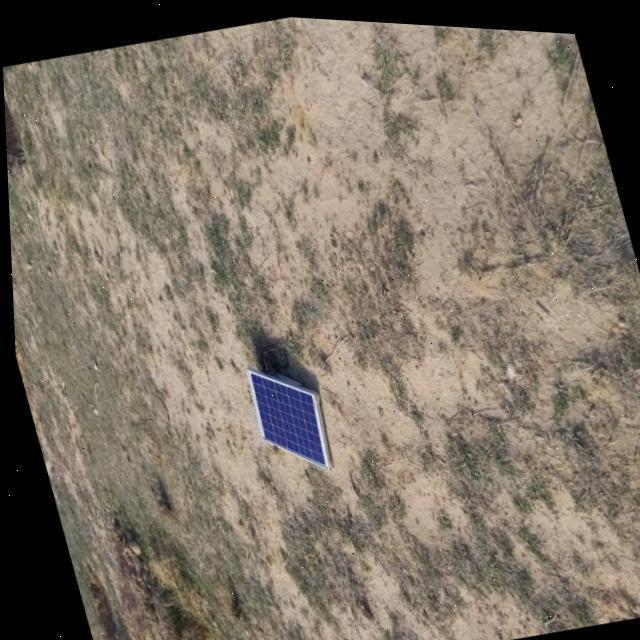Normal Solar Panel: (239, 351, 331, 478)
